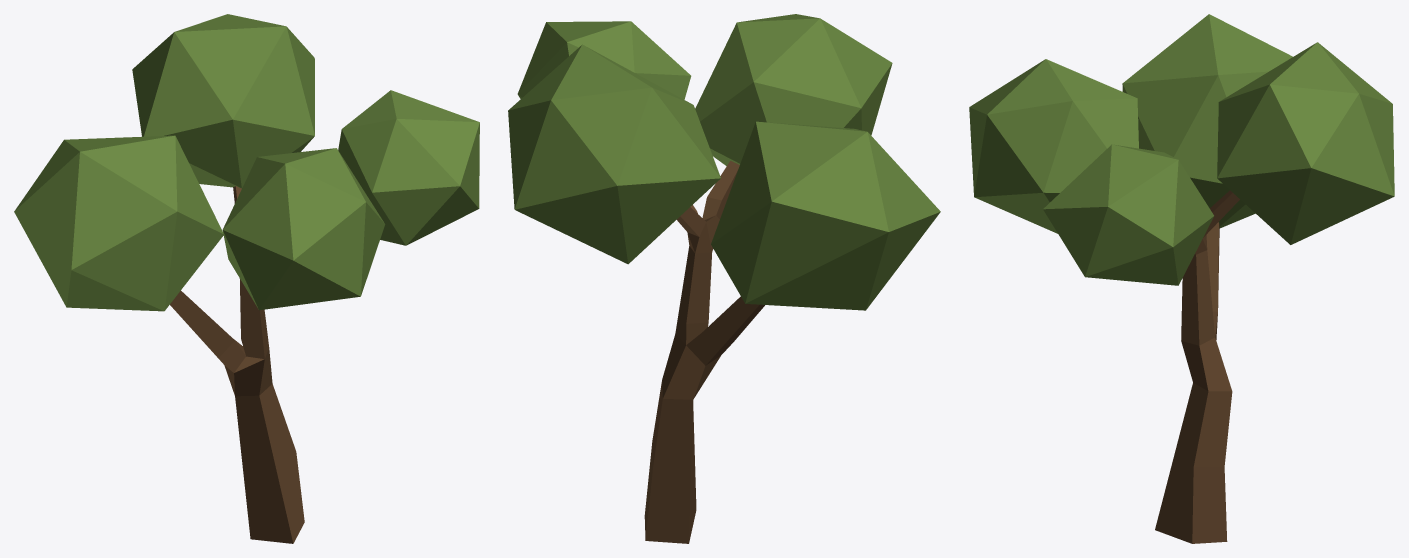
File: Pohon4.fbx
The picture shows the model from 3 angles, left to right: view 1: azimuth 30°, elevation 25°; view 2: azimuth 150°, elevation 25°; view 3: azimuth 270°, elevation 25°; orthographic projection. The views are drawn at different scales.
Parts seen in each view (by area): view 1: tree_1c.002; view 2: tree_1c.002; view 3: tree_1c.002.
Part boxes in pixels (left/top/right/bottom): tree_1c.002: left=14, top=14, right=479, bottom=543; tree_1c.002: left=508, top=14, right=940, bottom=543; tree_1c.002: left=969, top=14, right=1394, bottom=543.
Size of the model in its own units: 556 by 639 by 514.
